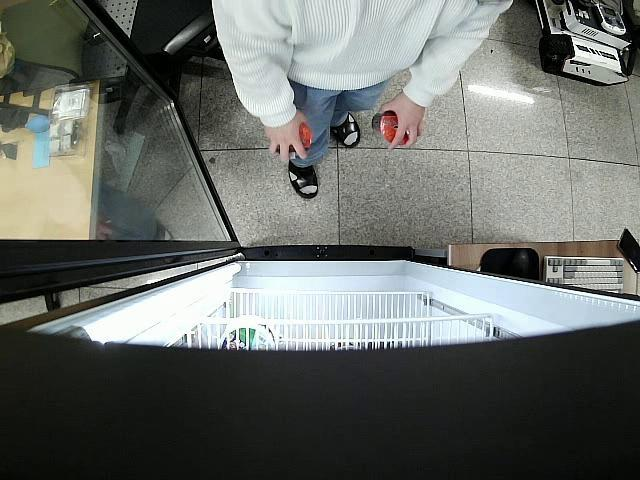02_shinRamen_S: (372, 109, 408, 144), (276, 122, 311, 153)
